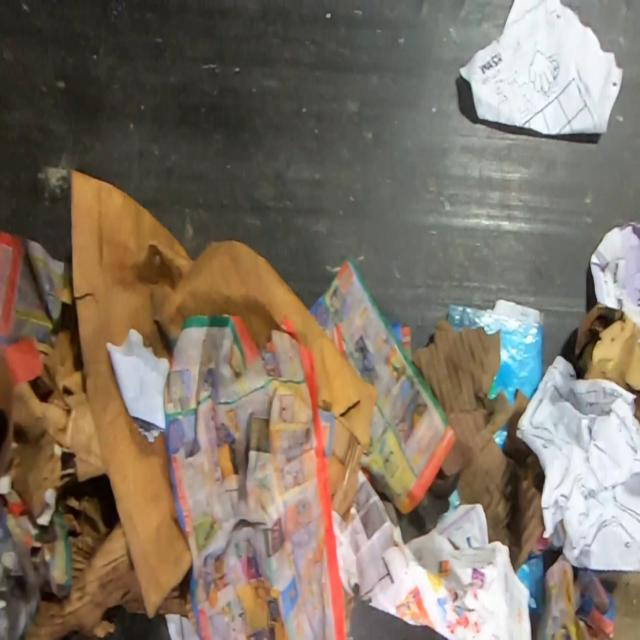cardboard: (68, 167, 379, 620), (0, 321, 147, 640), (455, 390, 546, 573), (411, 317, 515, 477), (570, 303, 640, 423), (594, 569, 639, 640)
soft_plastic: (447, 303, 544, 406), (515, 552, 544, 615), (493, 420, 508, 450), (446, 489, 462, 512)
